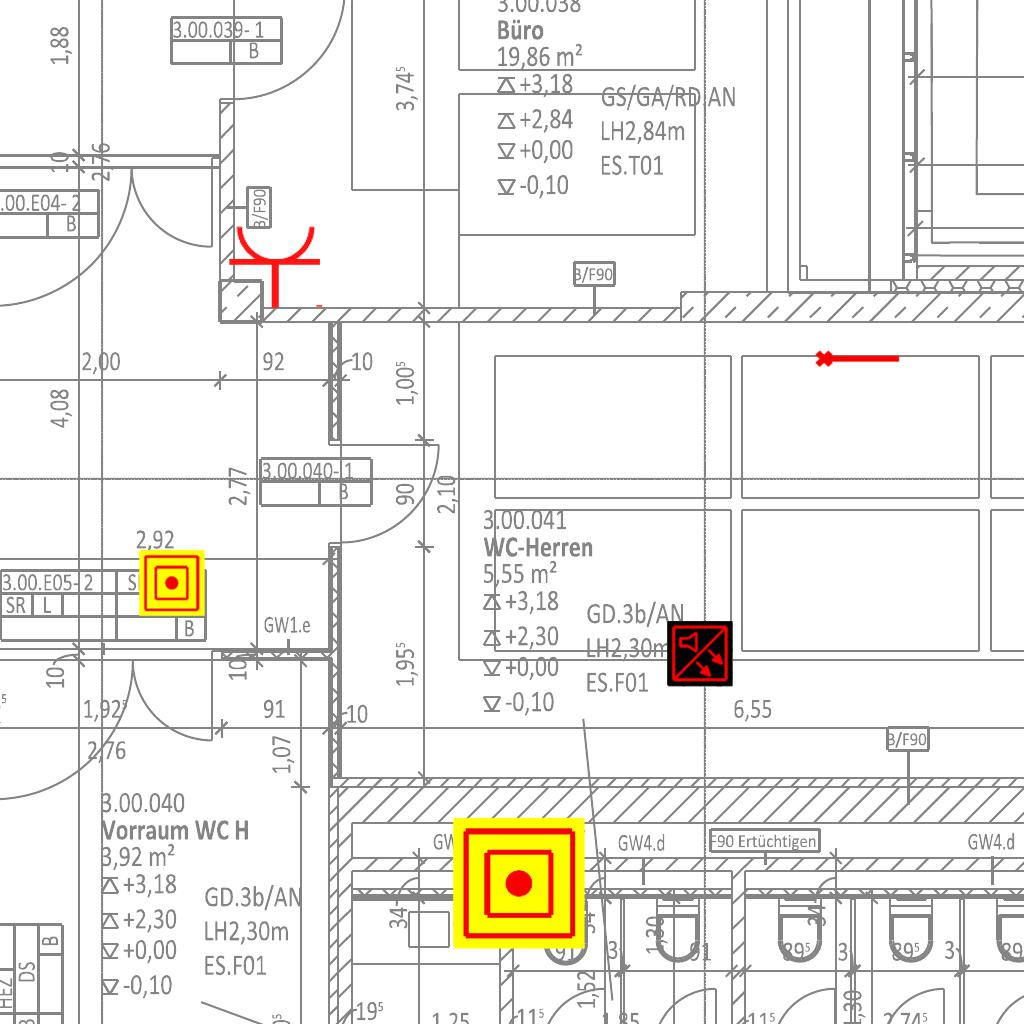ASR_Ansaugoeffnung: (814, 346, 902, 369)
NAM-Nichtautomatischer_Melder: (453, 817, 585, 949), (139, 550, 205, 616)
OKW_Multisensormelder_(Kombination_optischer_Rauch-Kahlenmonoxid_Waerme-Melder): (667, 621, 733, 687)
Schukosteckdose_einfach: (227, 223, 327, 310)
